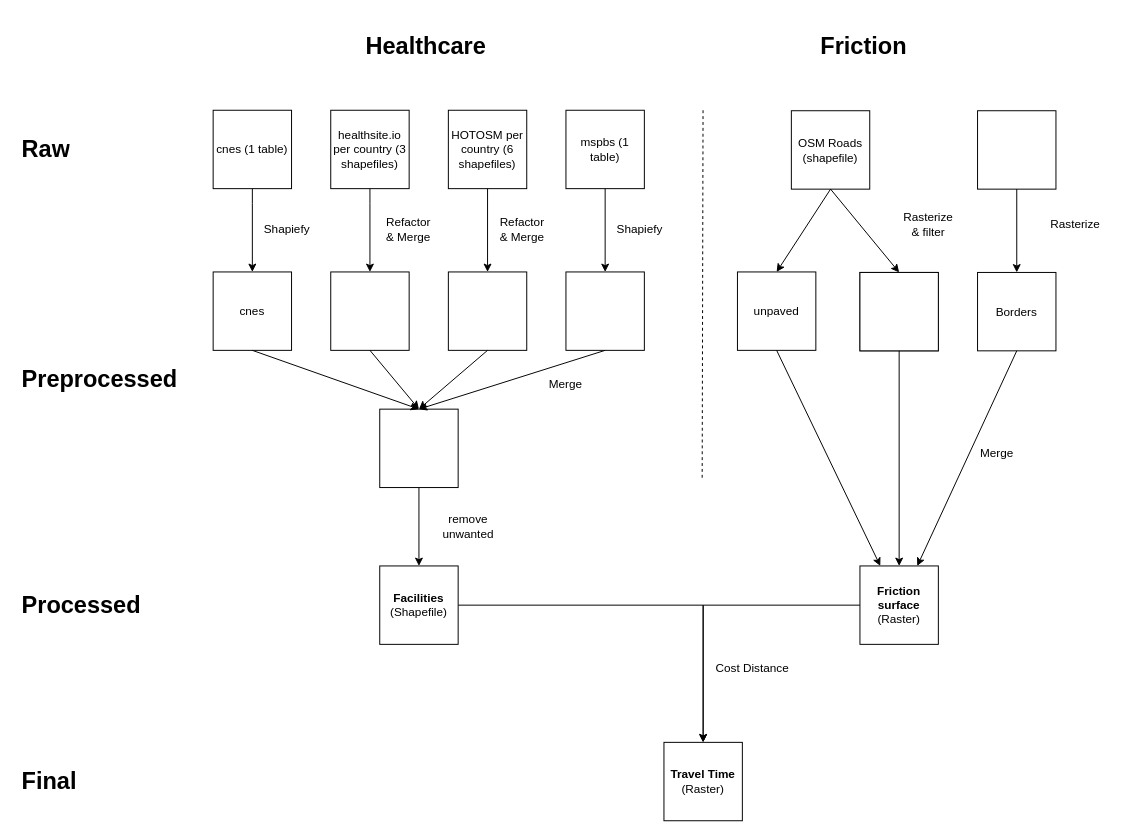
Some shapes in this 1121 by 838 pixel diagram are drawn without their labels. Here are the shapes that lost their labels. From the top down, the box of each, then its label:
(977, 110, 1056, 189): geoBoundries (shapefile)
(330, 271, 409, 350): healthsite.io
(447, 271, 527, 350): HOTOSM
(565, 271, 644, 350): mspbs
(859, 271, 938, 351): paved
(379, 408, 458, 488): Facilities dirty
